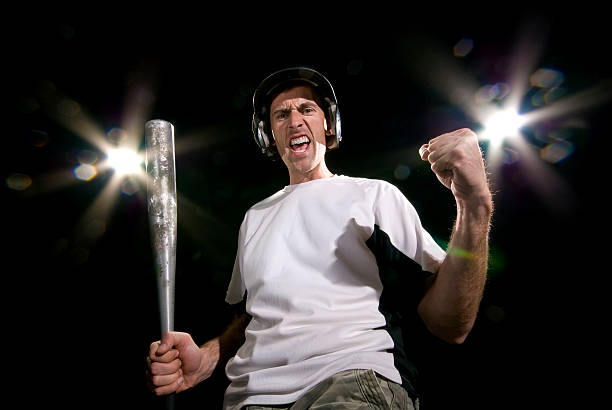bita: (142, 115, 185, 347)
